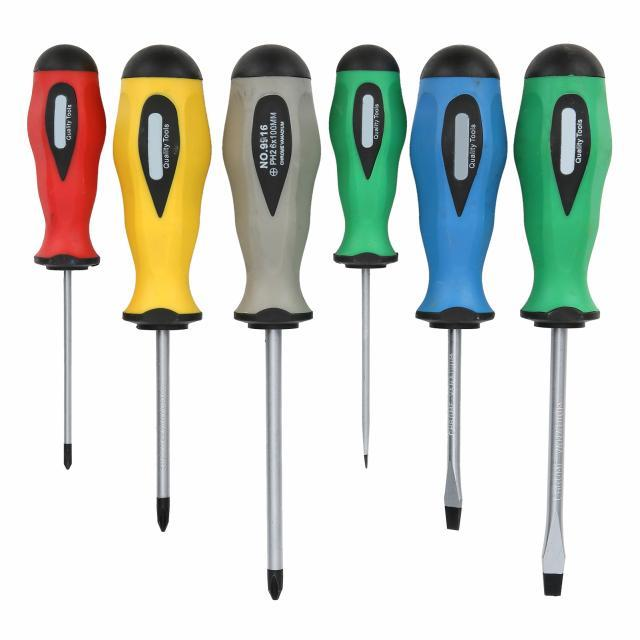screwdriver: (220, 43, 326, 612), (511, 32, 614, 600), (111, 35, 216, 532), (408, 42, 507, 531), (20, 42, 110, 479), (326, 43, 412, 471)
